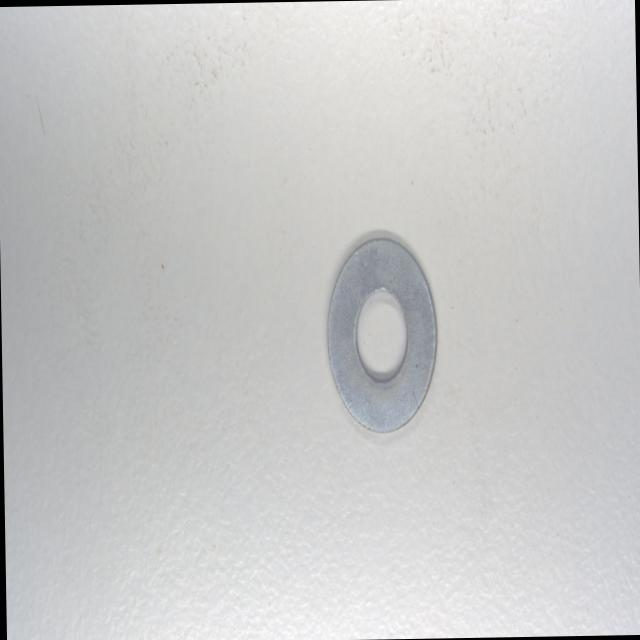washer: (322, 232, 438, 437)
